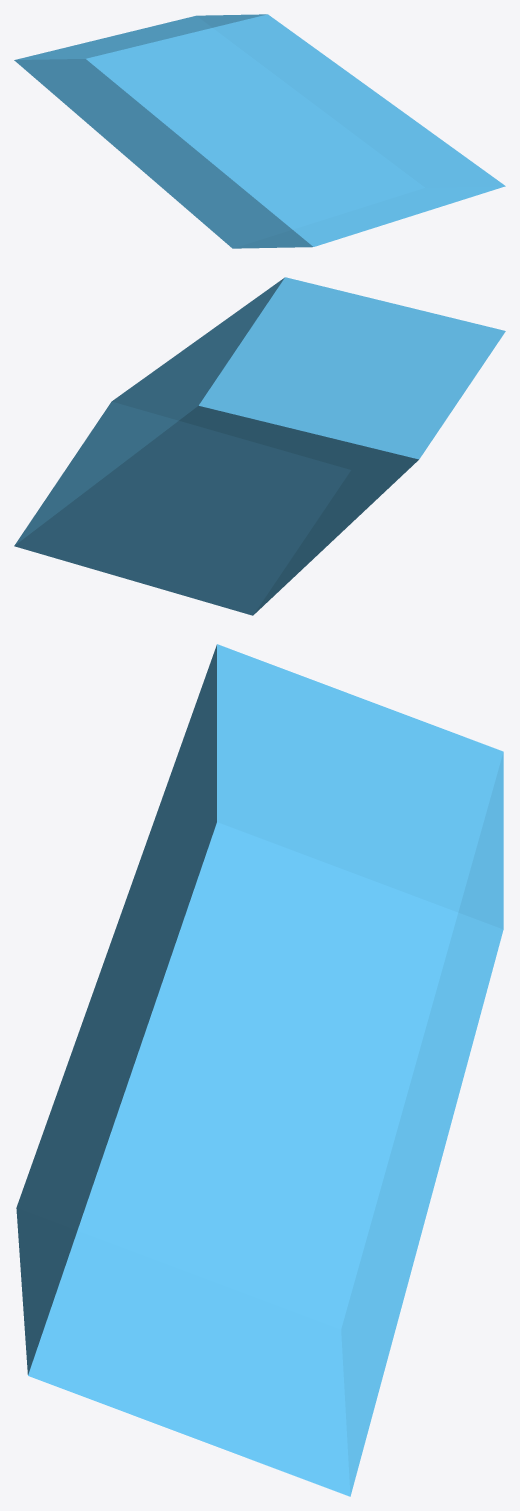
The model's file is Event_420094457_HBrechit_28.fbx.
3 views of the same model, one above another, from view 1: azimuth 30°, elevation 25°; view 2: azimuth 150°, elevation 25°; view 3: azimuth 270°, elevation 25° (orthographic). The views are drawn at different scales.
Parts seen in each view (by area): view 1: Model; view 2: Model; view 3: Model.
Boxes of the visible parts, x1,y1,x2,y2 form: Model: [14, 14, 505, 248]; Model: [14, 277, 505, 615]; Model: [16, 644, 503, 1496].
Bounding box in the file's own units: 1.12 × 0.7317 × 0.6311.
